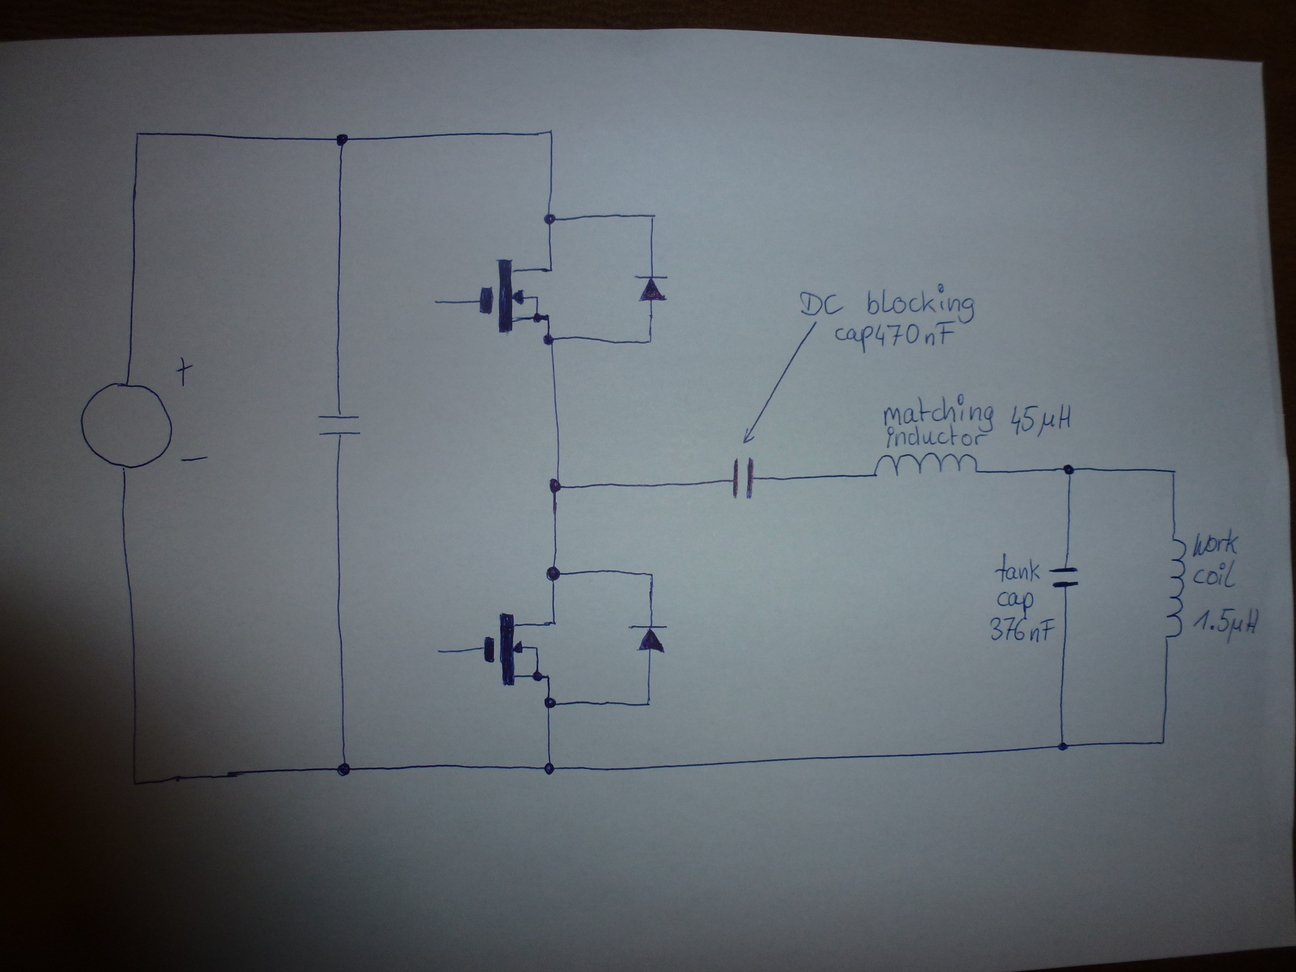capacitor.unpolarized: (726, 451, 759, 501), (315, 409, 364, 441), (1047, 564, 1081, 589)
diode: (625, 620, 672, 658), (631, 270, 672, 307)
inductor: (871, 450, 980, 480), (1159, 533, 1188, 641)
junction: (543, 563, 566, 585), (545, 475, 566, 497), (334, 760, 353, 779), (333, 130, 351, 149), (541, 693, 559, 711), (541, 210, 559, 227), (541, 758, 556, 777), (1060, 461, 1077, 477), (541, 333, 558, 347), (1055, 738, 1070, 754), (127, 774, 142, 789), (644, 567, 657, 583), (642, 334, 655, 348), (1166, 465, 1181, 478), (543, 125, 557, 138), (645, 209, 659, 223), (1156, 735, 1168, 748), (132, 127, 144, 140), (642, 696, 654, 710)
terminal: (428, 297, 443, 308), (432, 647, 445, 657)
text: (881, 391, 994, 434), (866, 282, 978, 325), (833, 318, 958, 355), (883, 421, 988, 450), (1191, 604, 1261, 647), (1009, 400, 1073, 441), (987, 614, 1056, 645), (1191, 526, 1241, 558), (993, 552, 1042, 583), (1192, 558, 1239, 590), (796, 290, 846, 318), (993, 588, 1035, 617)
transistor: (477, 256, 555, 336), (481, 609, 559, 688)
voltage.dc: (74, 377, 178, 476)
